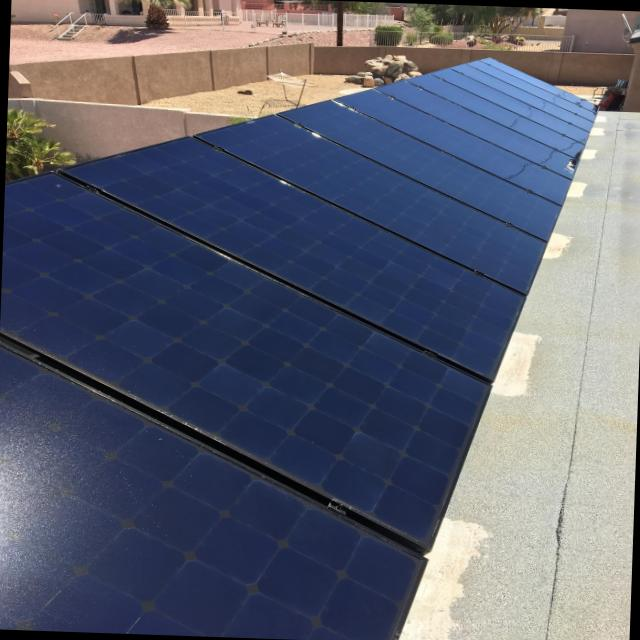no faulty: (0, 86, 562, 640)
